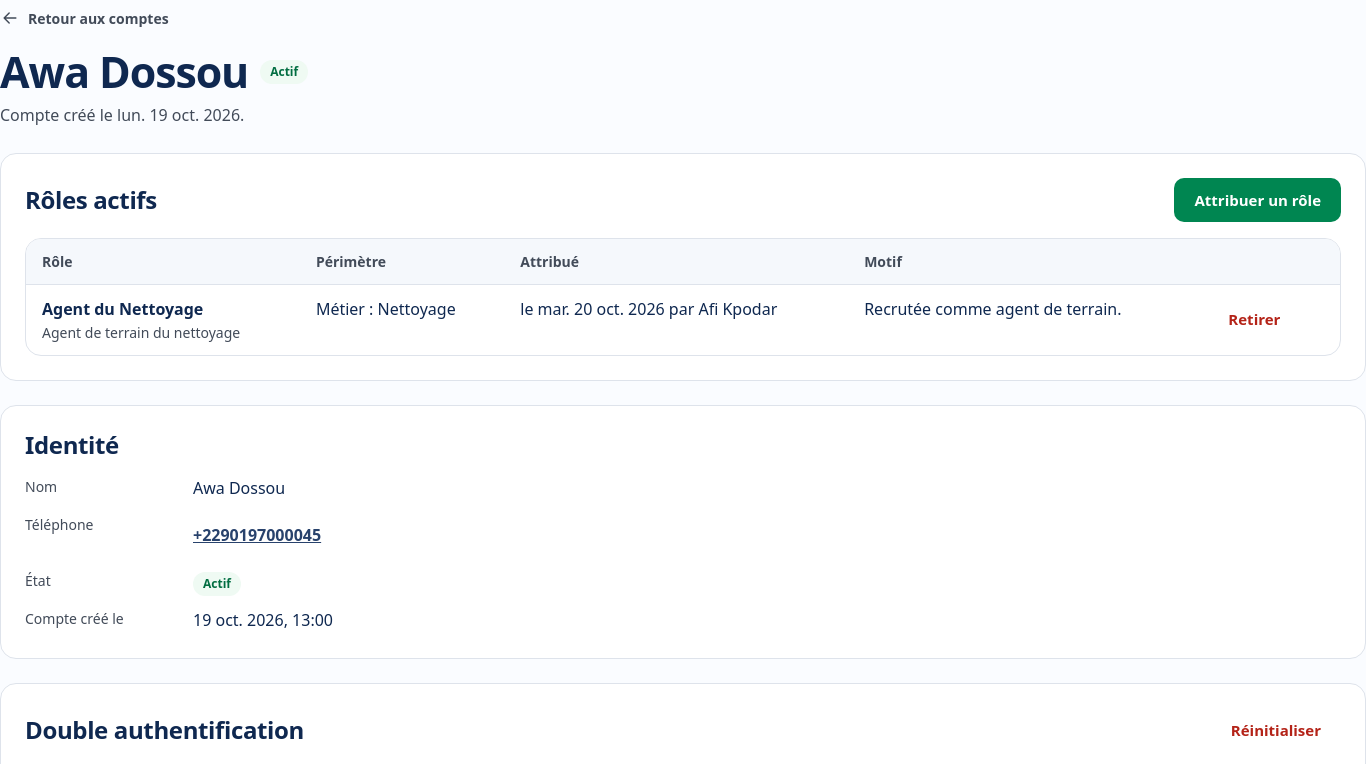
Test: réinitialisation de la double authentification › déjà réinitialisée (second envoi) : la fiche est relue et l’explication reste affichée
The image size is (1366, 764).
Click the button with aria-label "Réinitialiser la double authentification" at point(1276, 730), box [1211,708,1341,752]
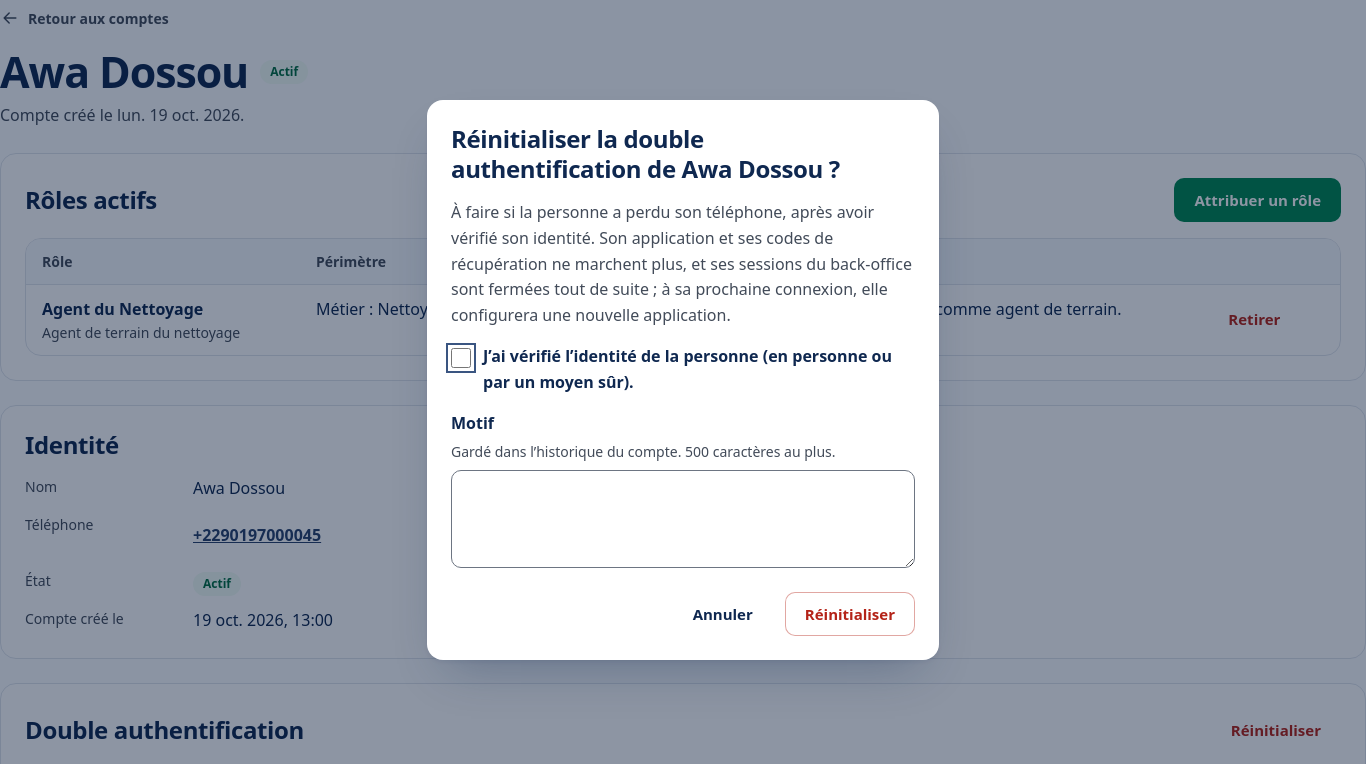
Click the checkbox labelled "J’ai vérifié l’identité" at point(461, 358), box [451,348,471,368]
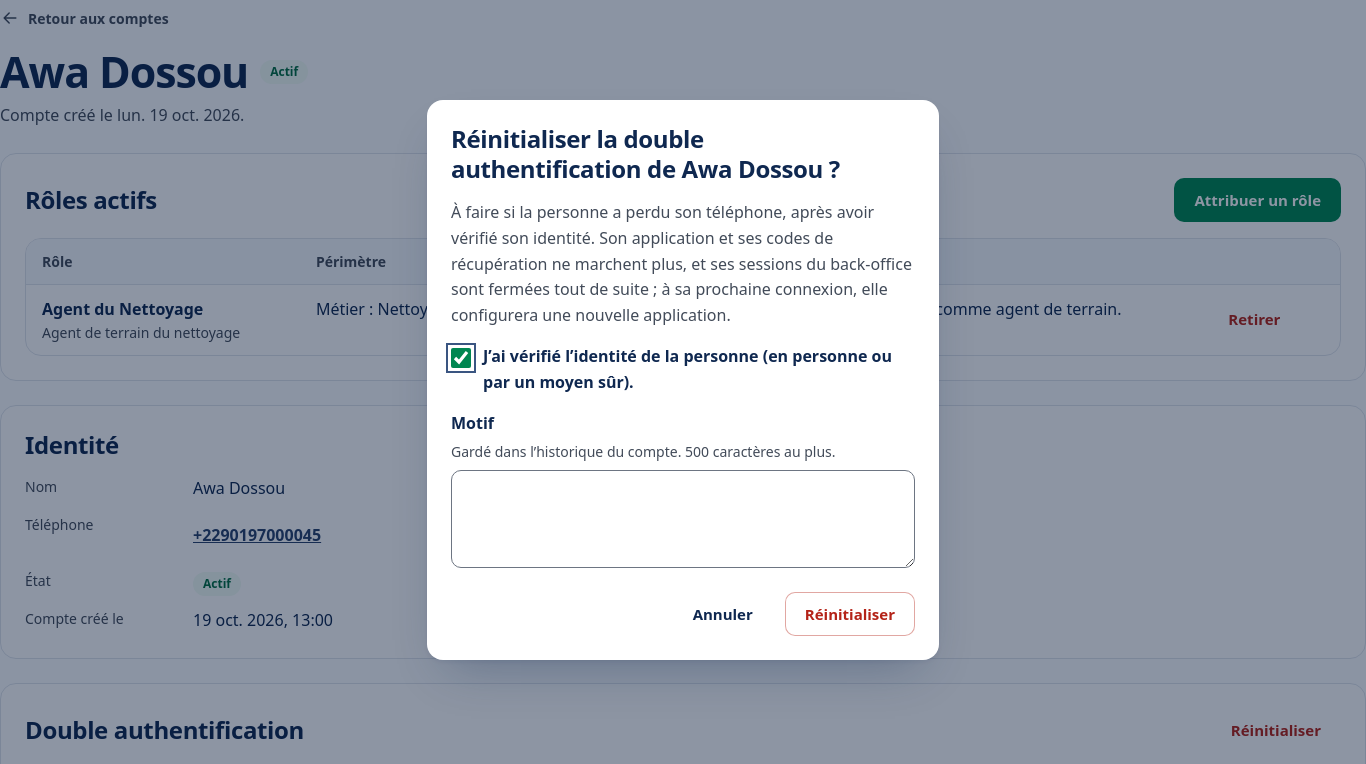
Type "Téléphone perdu, identité vérifiée." into the text box labelled "Motif" at point(683, 519), box [451,470,915,568]
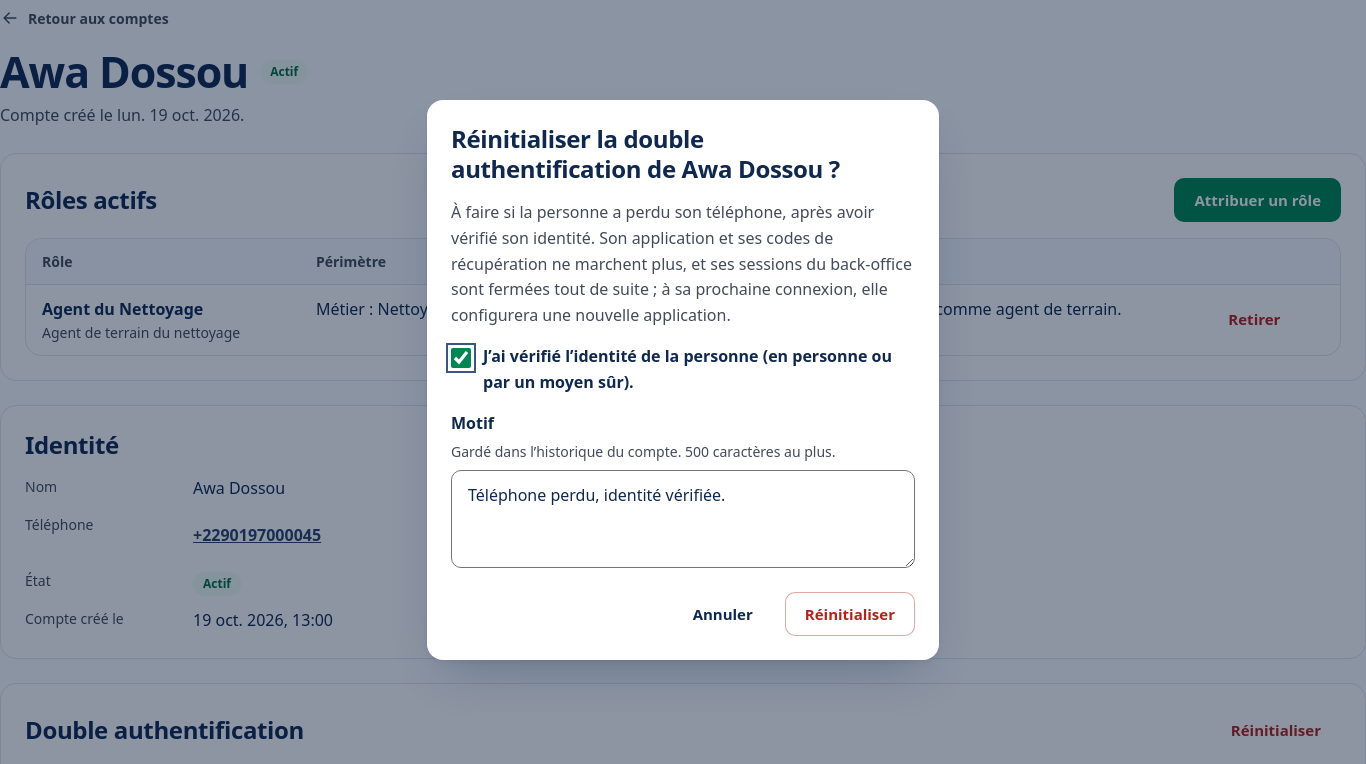
Click the 1st button "Réinitialiser" at point(850, 614), box [785,592,915,636]
(page scrolled)
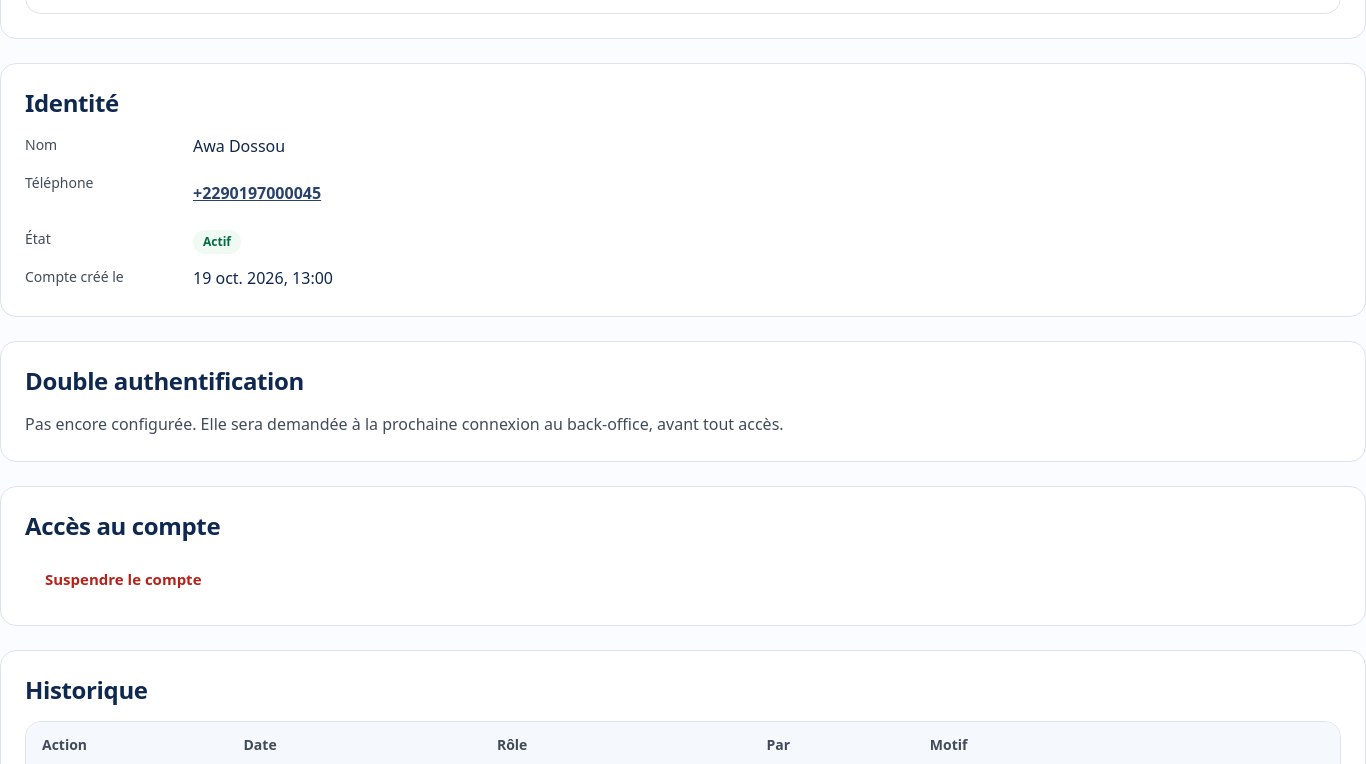
Now the text "Pas encore configurée" is shown, box [25,412,784,434]
